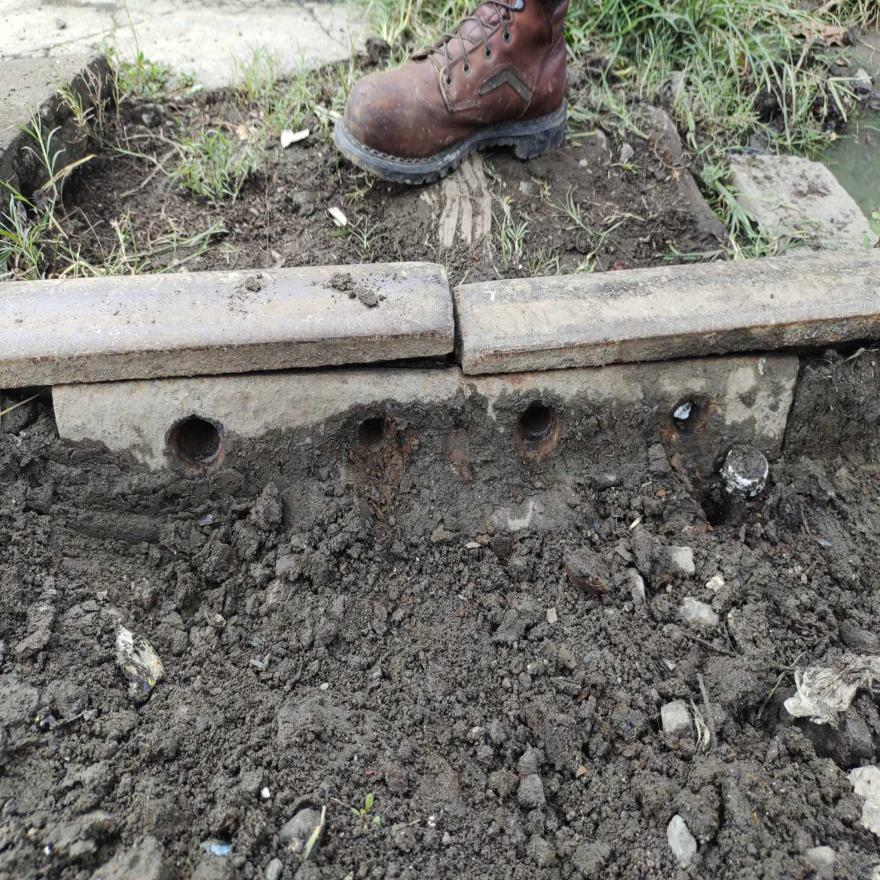railway-gap: (388, 246, 520, 403)
